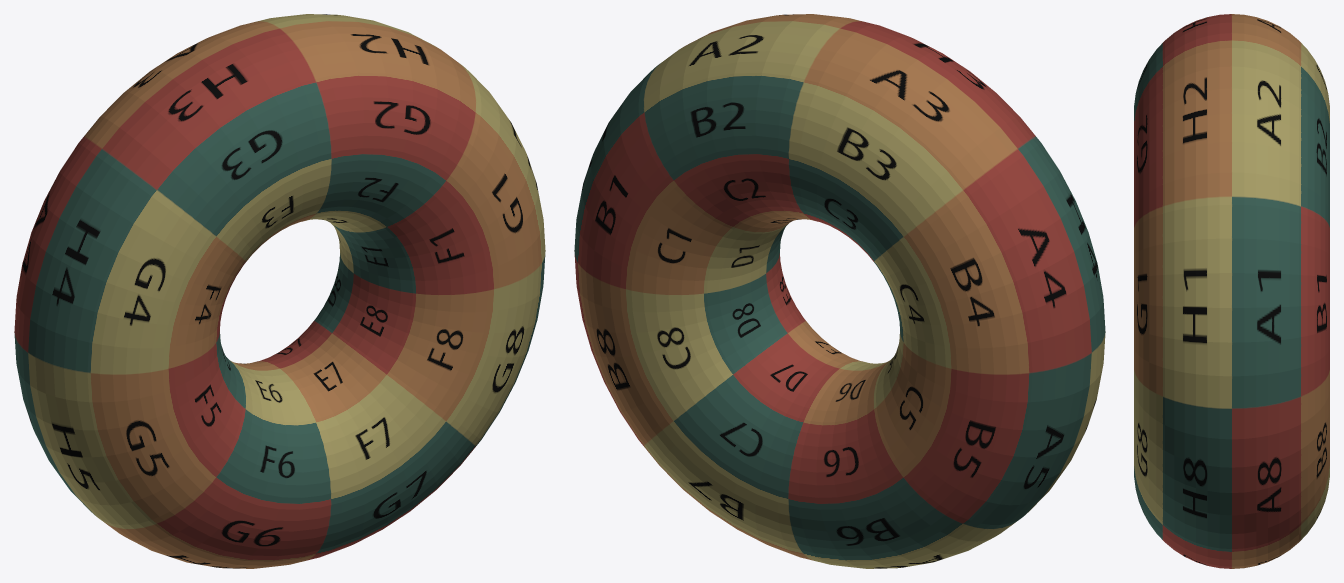
Rendered from texture_torus_R0_r13.glb.
3 views of the same model, side by side, from view 1: azimuth 30°, elevation 25°; view 2: azimuth 150°, elevation 25°; view 3: azimuth 270°, elevation 25° (orthographic). The views are drawn at different scales.
Parts seen in each view (by area): view 1: world; view 2: world; view 3: world.
Boxes of the visible parts, box(x1,y1,x2,y2) form: world: box(14, 14, 545, 568); world: box(574, 14, 1105, 568); world: box(1134, 14, 1329, 568).
Size of the model in its own units: 15.47 by 15.44 by 5.46.
1 material, 1 textured.
